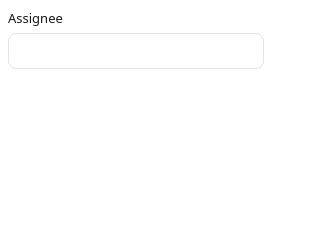
Scenario: Combobox › ARIA › connects the open listbox to the input
Click the dropdown labelled "Assignee" at (136, 51), box [8, 33, 264, 69]
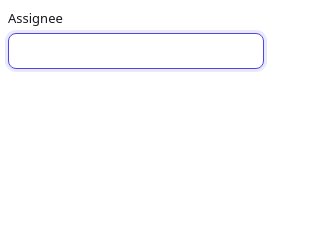
Press Arrowdown
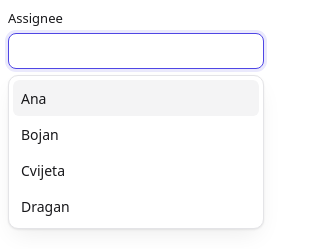
Expected: the list is shown, [13, 80, 259, 224]
